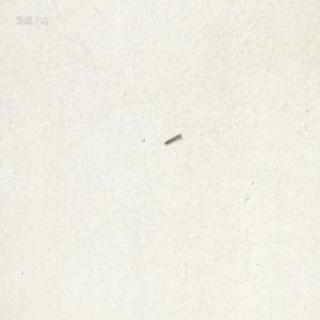Bolttrack_idkeyframe: (163, 131, 180, 144)
